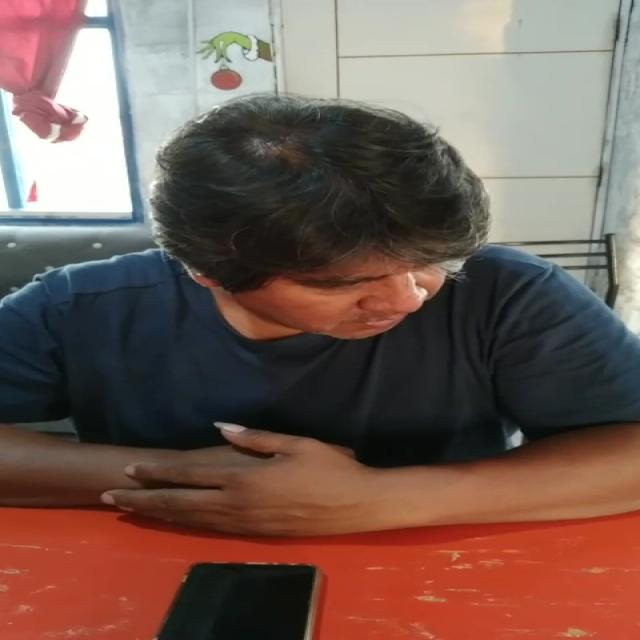9_cabeza_baja: (156, 98, 485, 340)
